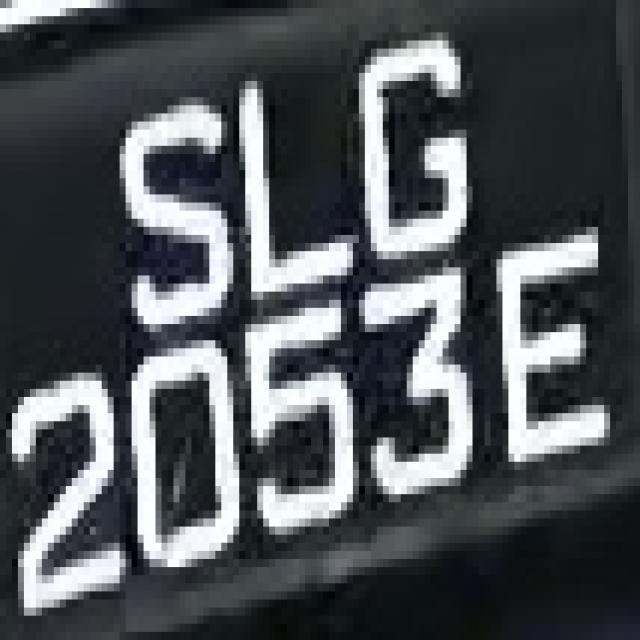0: (114, 348, 245, 567)
2: (0, 357, 144, 608)
3: (335, 276, 478, 526)
5: (233, 292, 371, 567)
E: (491, 227, 610, 478)
G: (341, 32, 466, 276)
L: (215, 73, 389, 308)
S: (90, 81, 227, 332)
